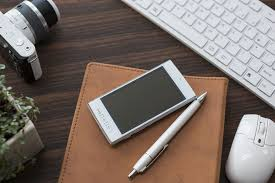mobil: (85, 58, 198, 144)
